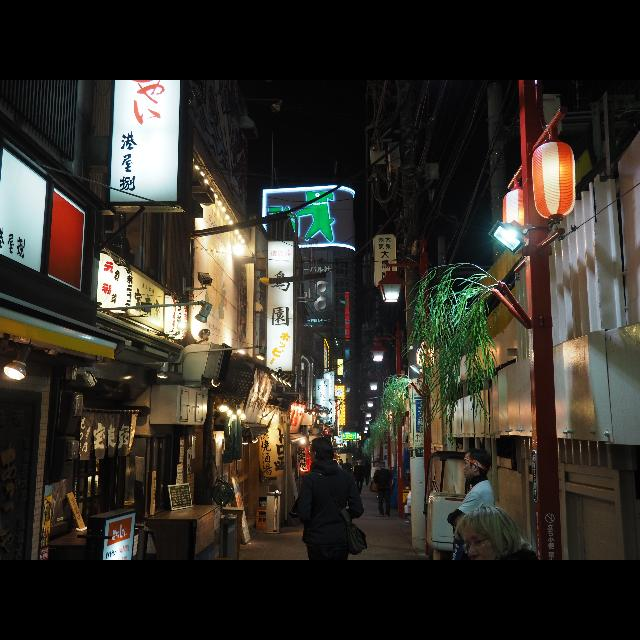head: (462, 448, 492, 479), (310, 438, 332, 464), (378, 462, 386, 468), (358, 460, 362, 466), (338, 461, 342, 464), (366, 458, 369, 462), (340, 459, 342, 463), (346, 458, 348, 462), (356, 461, 358, 465)
person: (373, 460, 392, 518), (352, 460, 363, 494), (343, 458, 352, 488), (353, 459, 361, 486), (364, 458, 371, 487), (338, 458, 344, 488), (337, 459, 343, 486)
